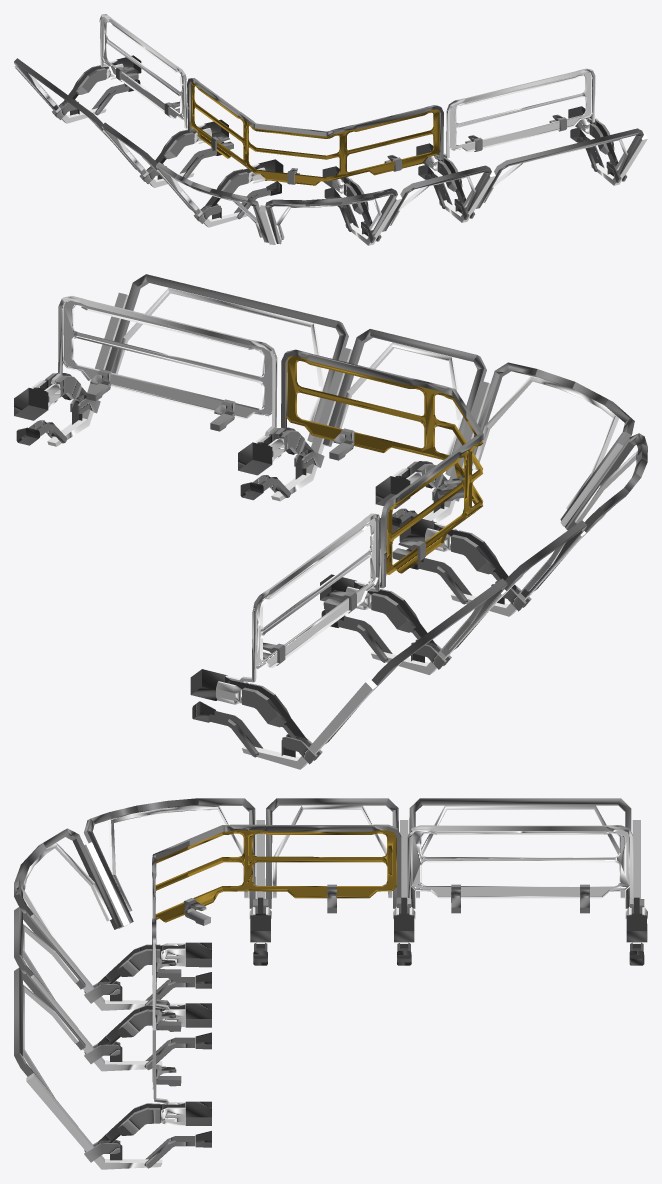
The model's file is ext_landingpad_railing_cornerout_10x10x02_a.glb.
3 views of the same model, one above another, from view 1: azimuth 30°, elevation 25°; view 2: azimuth 150°, elevation 25°; view 3: azimuth 270°, elevation 25° (orthographic). The views are drawn at different scales.
Bounding box in the file's own units: 10.26 × 2.47 × 10.26.
